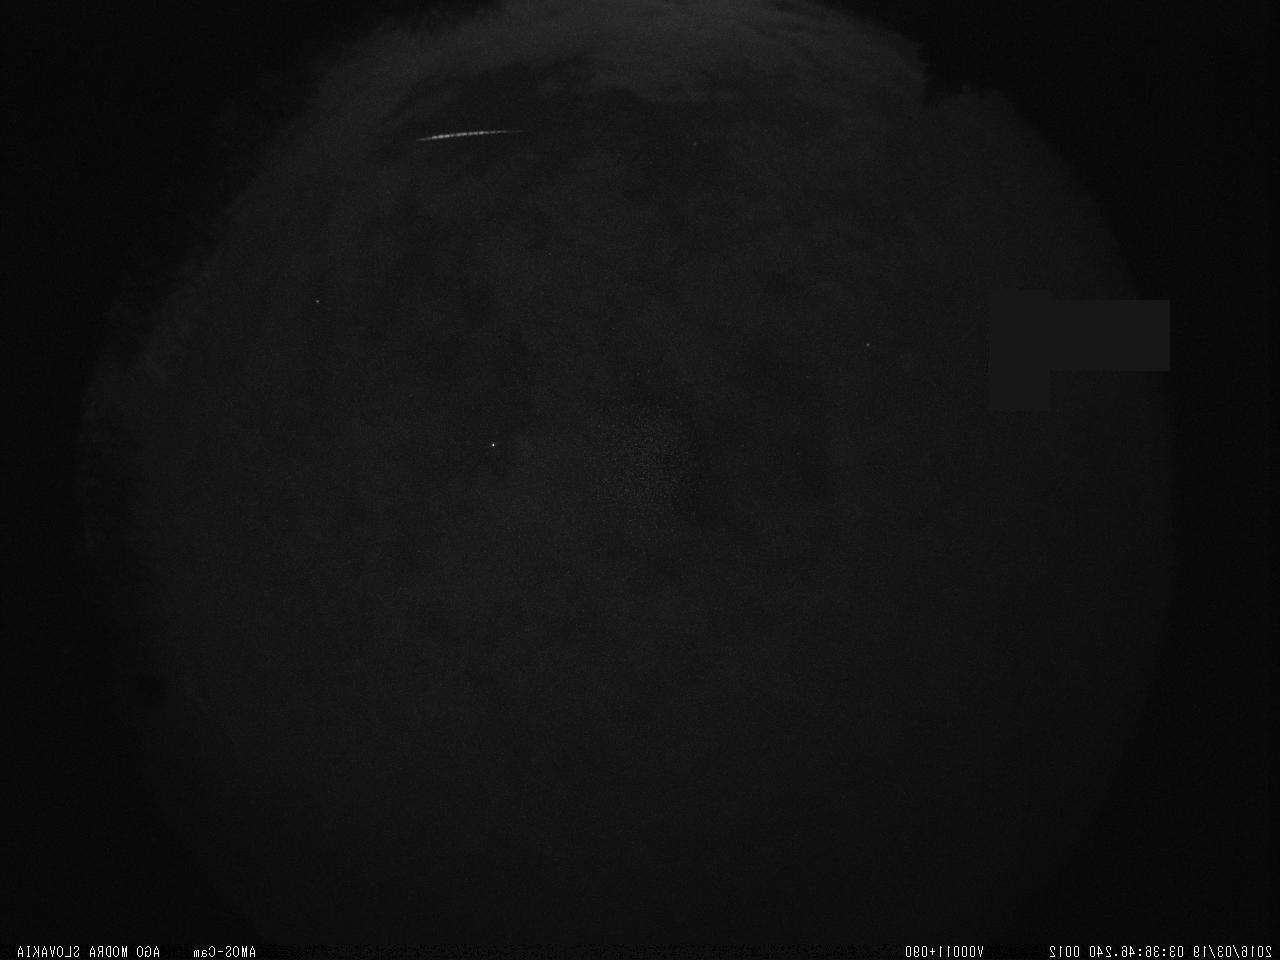meteor: (413, 123, 526, 149)
